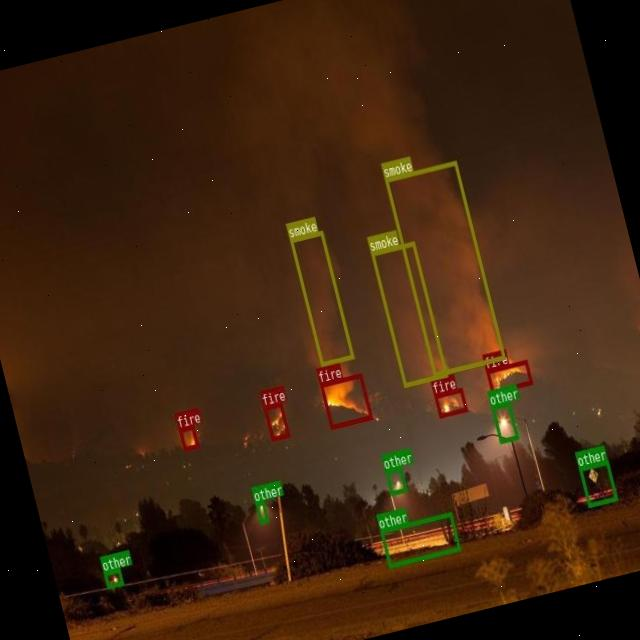fire: (319, 372, 371, 429), (486, 358, 532, 392), (263, 401, 289, 440), (433, 387, 466, 417), (178, 424, 198, 450)
smoke: (384, 160, 504, 376), (370, 241, 447, 386), (289, 230, 354, 365)
